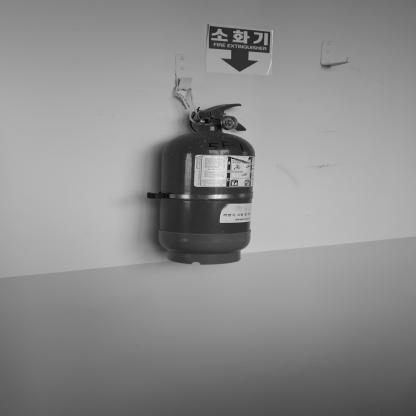FE: (156, 102, 254, 266)
